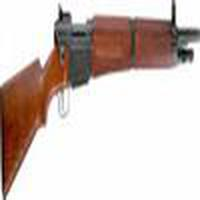gun: (1, 10, 199, 195)
